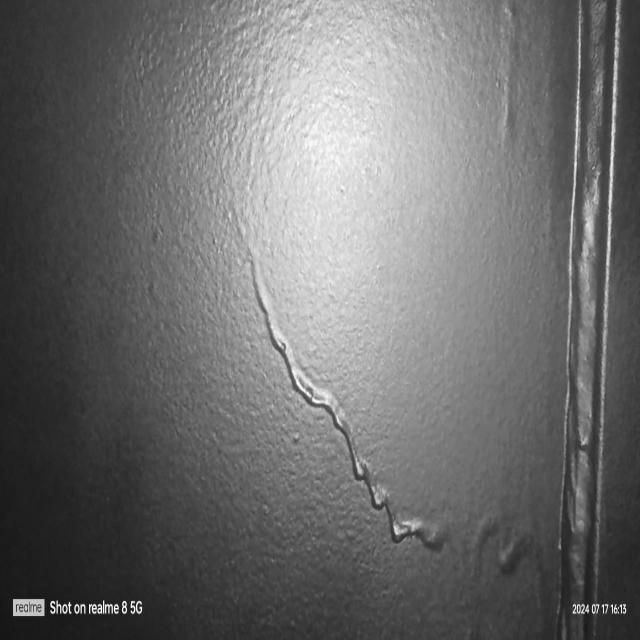paint drips: (238, 229, 554, 640)
